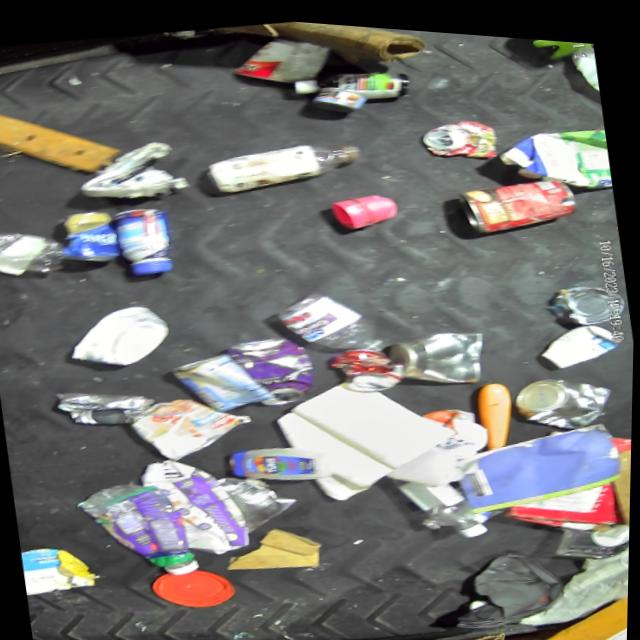can: (129, 381, 262, 470), (451, 158, 587, 238), (168, 340, 277, 420), (224, 323, 324, 410), (382, 315, 495, 391), (512, 357, 619, 433), (213, 462, 305, 536), (52, 375, 160, 436), (415, 107, 503, 164), (329, 335, 408, 393), (56, 204, 126, 268), (547, 270, 629, 324), (307, 76, 371, 115)
plastic_bottle: (271, 276, 391, 363), (390, 457, 493, 544), (0, 221, 72, 283)
